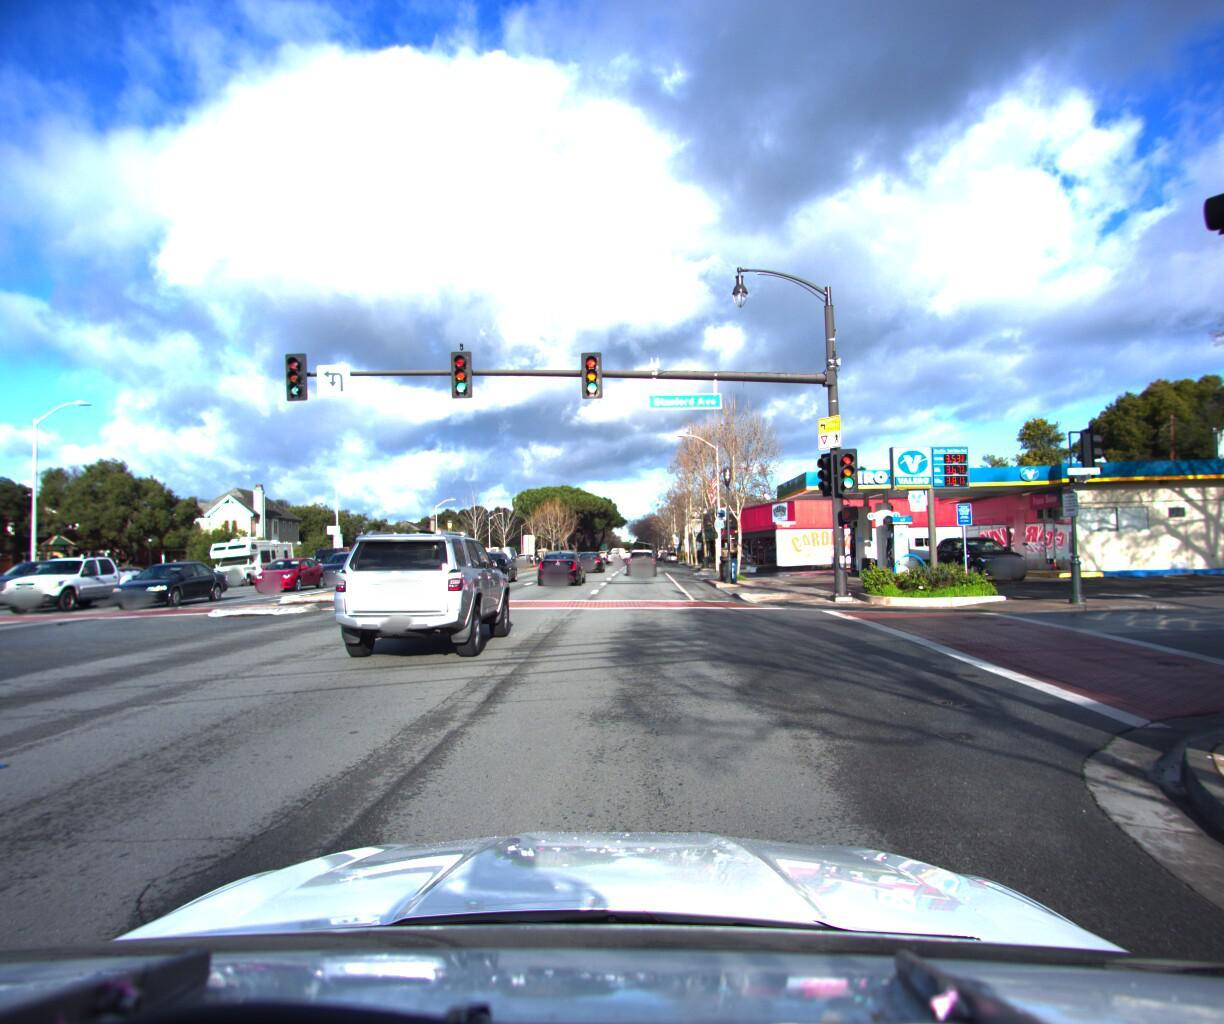car: (327, 524, 522, 666), (0, 548, 158, 611), (103, 557, 235, 609), (919, 525, 1034, 577), (0, 555, 110, 608), (245, 552, 334, 589), (311, 545, 385, 582), (466, 546, 523, 581), (535, 549, 588, 584), (622, 544, 655, 573), (574, 548, 605, 571), (1216, 517, 1224, 568)
other_vehicle: (200, 529, 301, 582)
